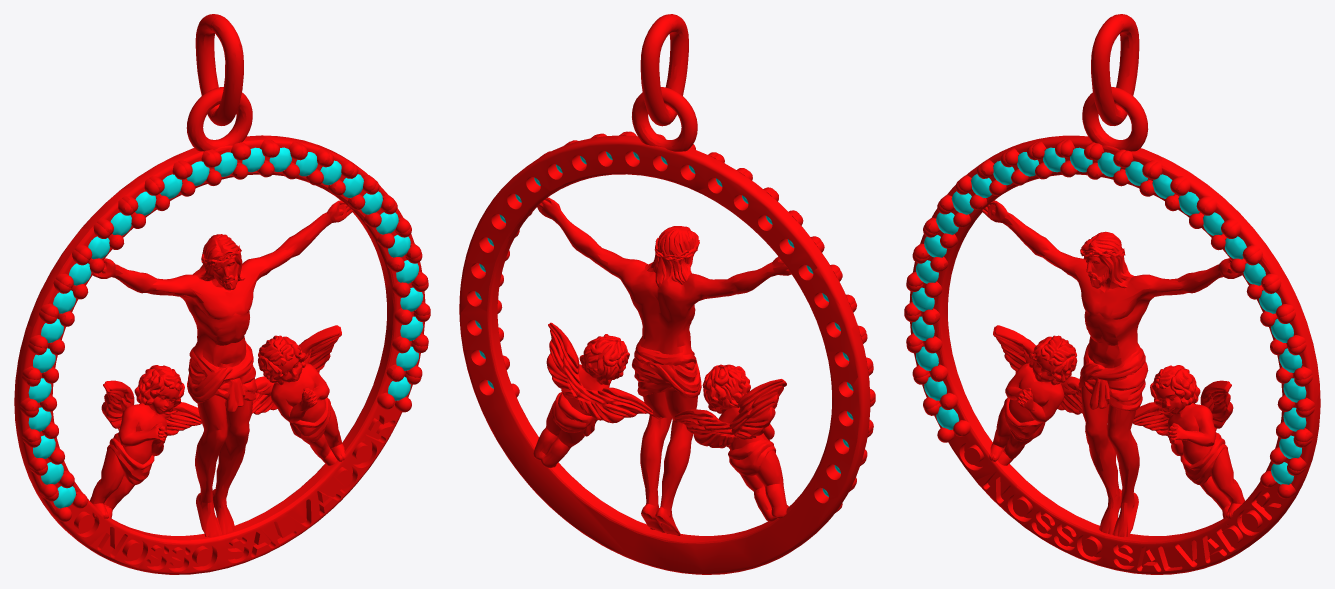
File: pingente_v2.glb
The picture shows the model from 3 angles, left to right: view 1: azimuth 30°, elevation 25°; view 2: azimuth 150°, elevation 25°; view 3: azimuth 330°, elevation 25°; orthographic projection.
Size of the model in its own units: 20.02 by 25.96 by 3.34.
